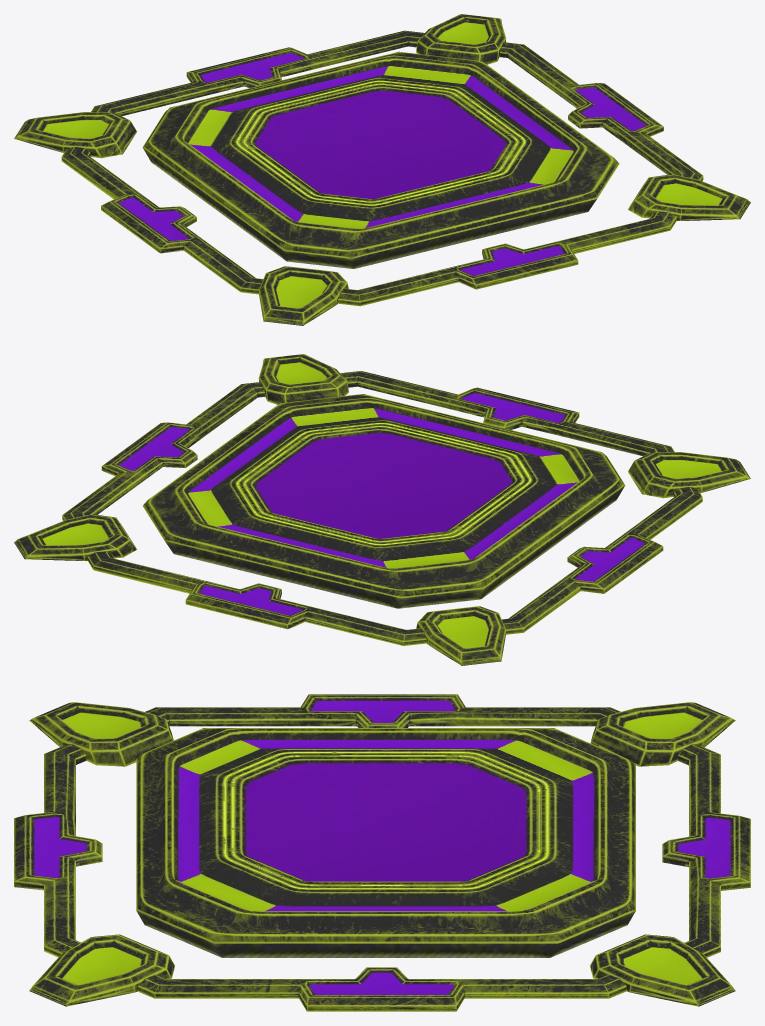
File: jump_pad.glb
The picture shows the model from 3 angles, top to bottom: view 1: azimuth 30°, elevation 25°; view 2: azimuth 150°, elevation 25°; view 3: azimuth 270°, elevation 25°; orthographic projection. The views are drawn at different scales.
Visible parts, largest first — view 1: Plane.039_jumppad_0; view 2: Plane.039_jumppad_0; view 3: Plane.039_jumppad_0.
Boxes of the visible parts, box(x1,y1,x2,y2) form: Plane.039_jumppad_0: box(14, 14, 750, 325); Plane.039_jumppad_0: box(14, 354, 750, 665); Plane.039_jumppad_0: box(14, 694, 750, 1011).
Size of the model in its own units: 1.25 by 0.0658 by 1.25.
1 material, 1 textured.
